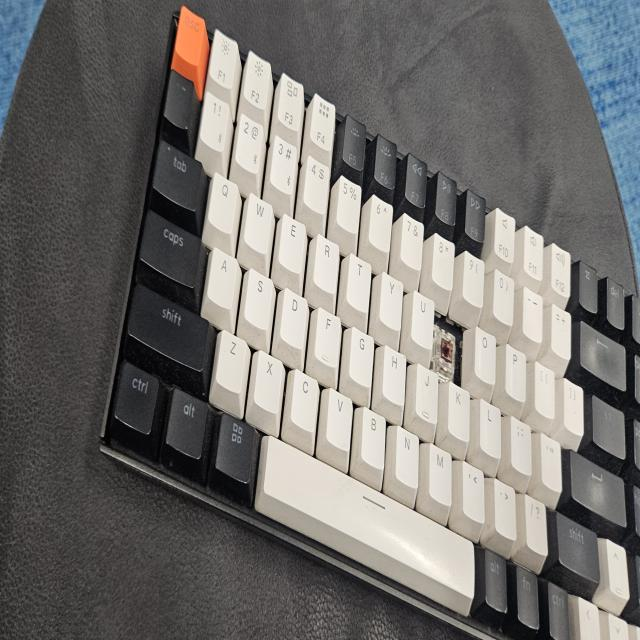C: (441, 318, 457, 375)
